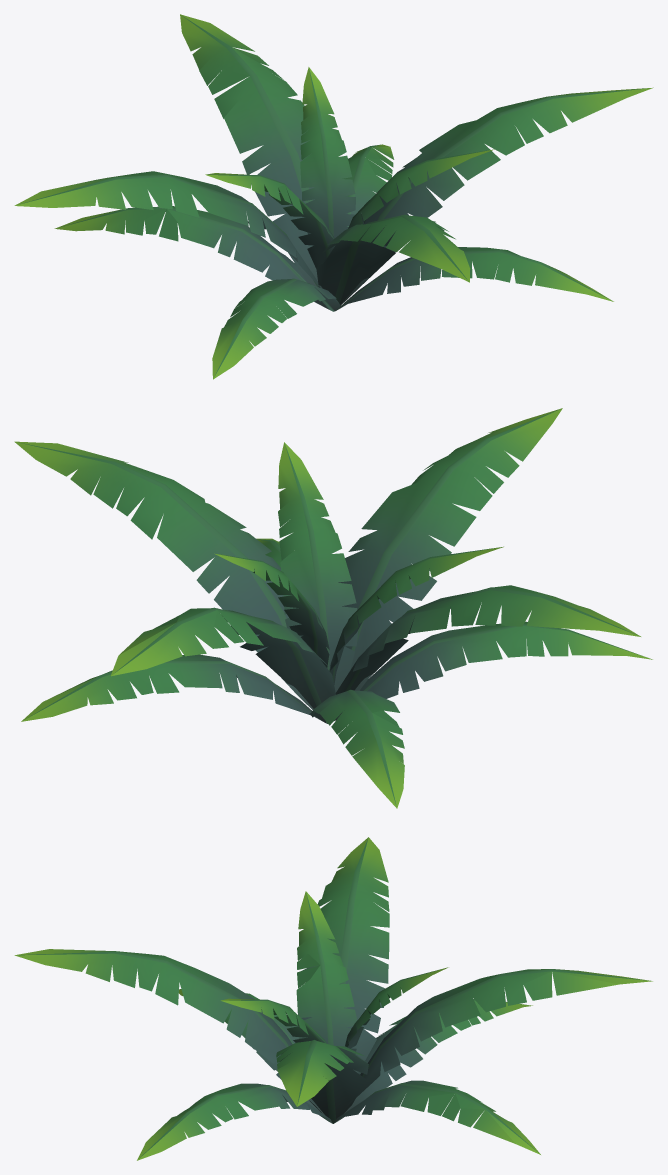
The model's file is plant_17.fbx.
The picture shows the model from 3 angles, top to bottom: view 1: azimuth 30°, elevation 25°; view 2: azimuth 150°, elevation 25°; view 3: azimuth 270°, elevation 25°; orthographic projection. The views are drawn at different scales.
Visible parts, largest first — view 1: plant_17; view 2: plant_17; view 3: plant_17.
Part boxes in pixels (bbox=[...]): plant_17: bbox=[14, 14, 653, 379]; plant_17: bbox=[14, 408, 652, 808]; plant_17: bbox=[14, 837, 652, 1160].
Size of the model in its own units: 8.16 by 2.46 by 8.17.
